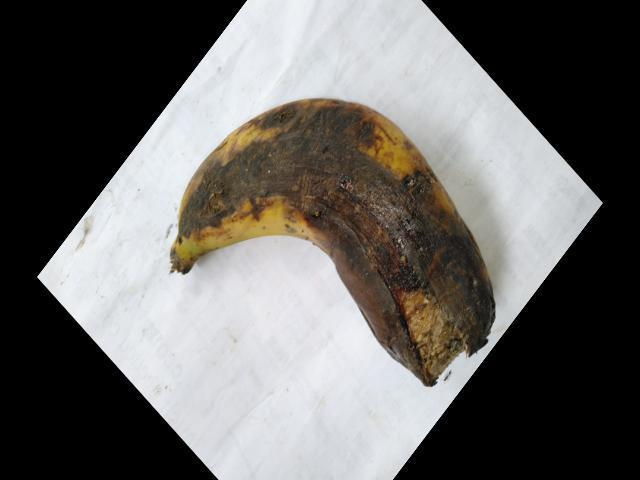rotten: (170, 71, 516, 382)
